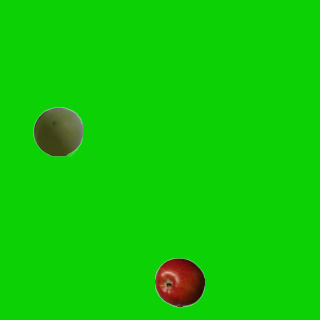Apple Braeburn: (154, 257, 204, 307)
Grape White 4: (32, 106, 82, 156)
